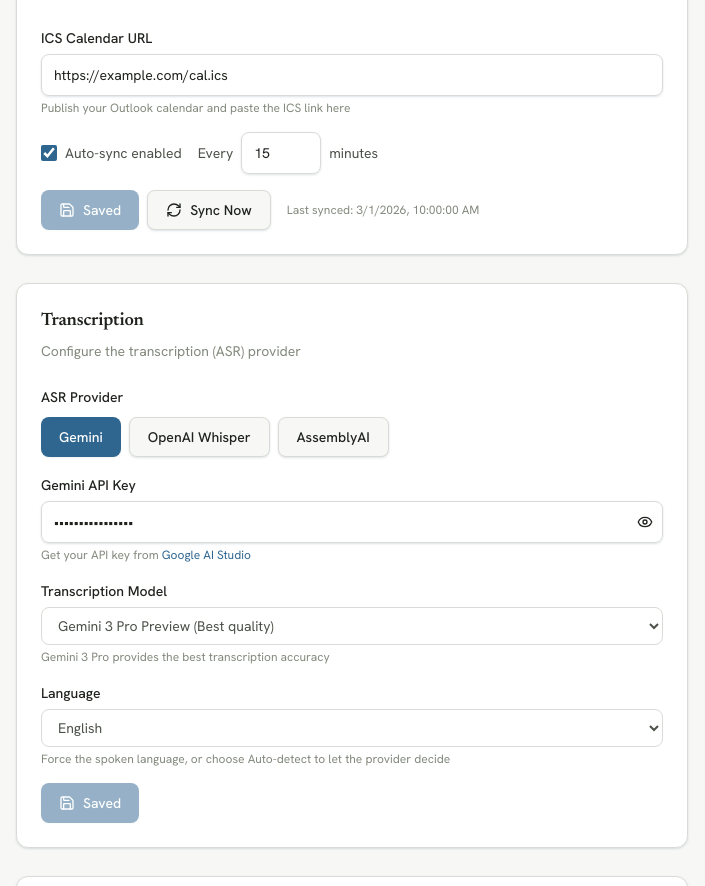
Scenario: Settings Page › should reveal OpenAI Whisper fields and hide Gemini fields when OpenAI Whisper is selected
This screenshot has width=705, height=886.
(page scrolled)
Note: Click the OpenAI Whisper button — wrap in act to flush async state updates
Click the button with aria-label "Use OpenAI Whisper ASR provider" at (199, 437), box top-left (129, 417), bottom-right (270, 457)
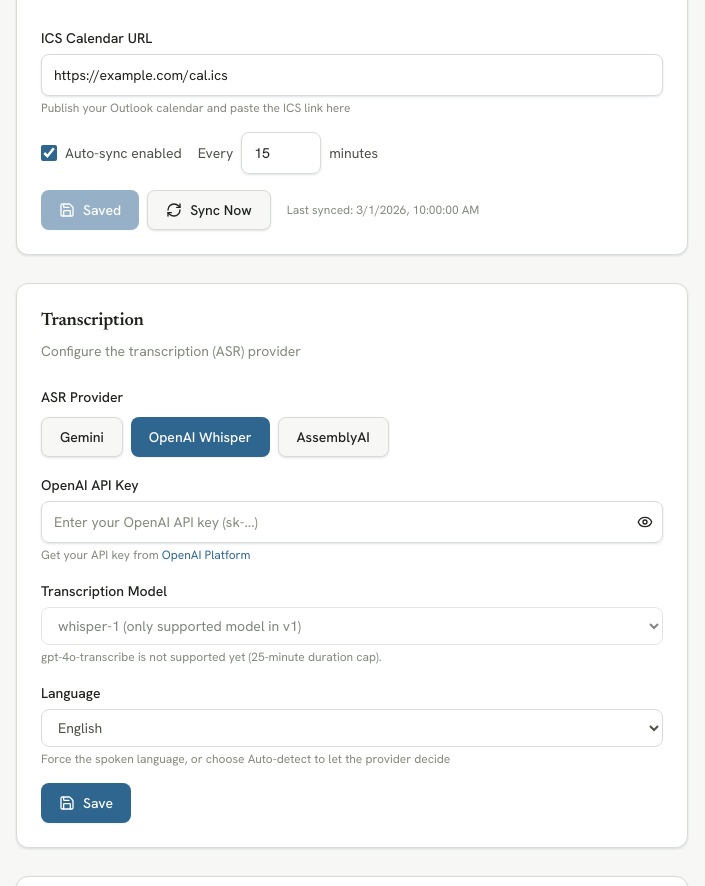
Now the label labelled "Gemini API Key" is gone
Now the password field labelled "OpenAI API Key" is shown, box top-left (41, 501), bottom-right (663, 543)
Now the dropdown with id "whisperModel" is shown, box top-left (41, 607), bottom-right (663, 645)
